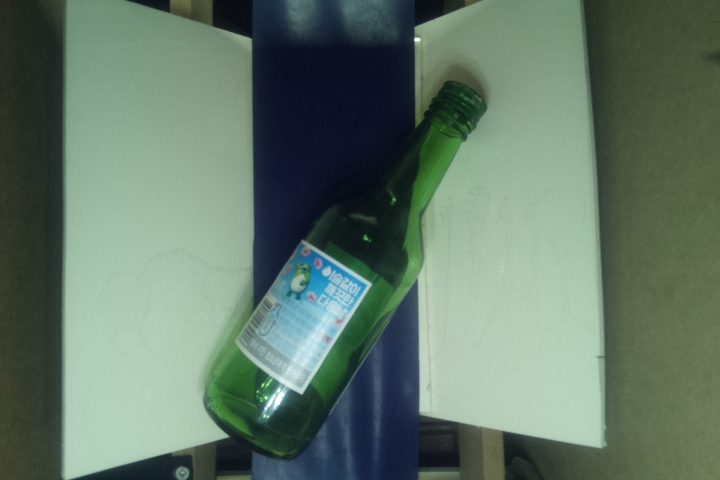soju: (203, 74, 487, 462)
